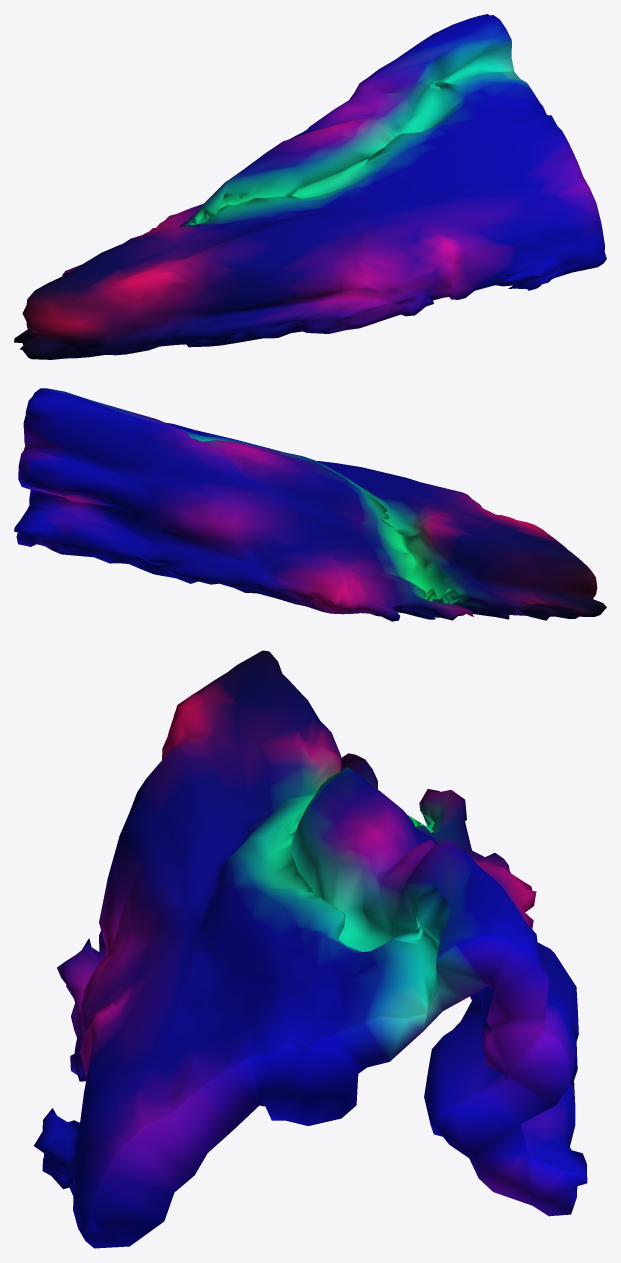
Rendered from tin_vein-u4-cracked-lod0.gltf.
The picture shows the model from 3 angles, top to bottom: view 1: azimuth 30°, elevation 25°; view 2: azimuth 150°, elevation 25°; view 3: azimuth 270°, elevation 25°; orthographic projection. The views are drawn at different scales.
Visible parts, largest first — view 1: tin_vein-u4-cracked-lod0; view 2: tin_vein-u4-cracked-lod0; view 3: tin_vein-u4-cracked-lod0.
Boxes of the visible parts, left/top/right/bottom form: tin_vein-u4-cracked-lod0: left=14, top=14, right=606, bottom=359; tin_vein-u4-cracked-lod0: left=14, top=388, right=606, bottom=621; tin_vein-u4-cracked-lod0: left=34, top=650, right=587, bottom=1248.
Bounding box in the file's own units: 1.65 × 0.489 × 0.7795.
